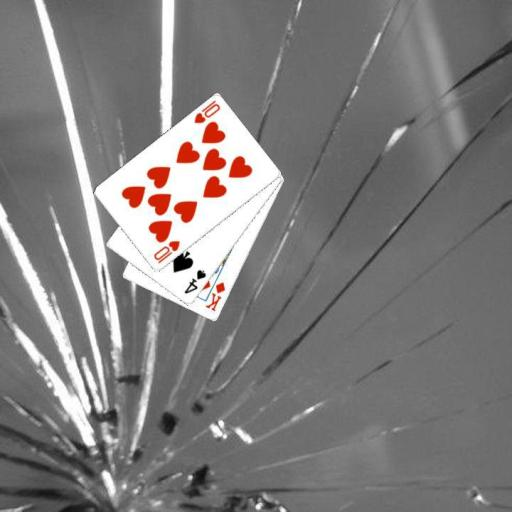10H: (190, 98, 222, 125), (150, 238, 181, 265)
4S: (181, 267, 208, 296)
KD: (203, 279, 227, 313)
